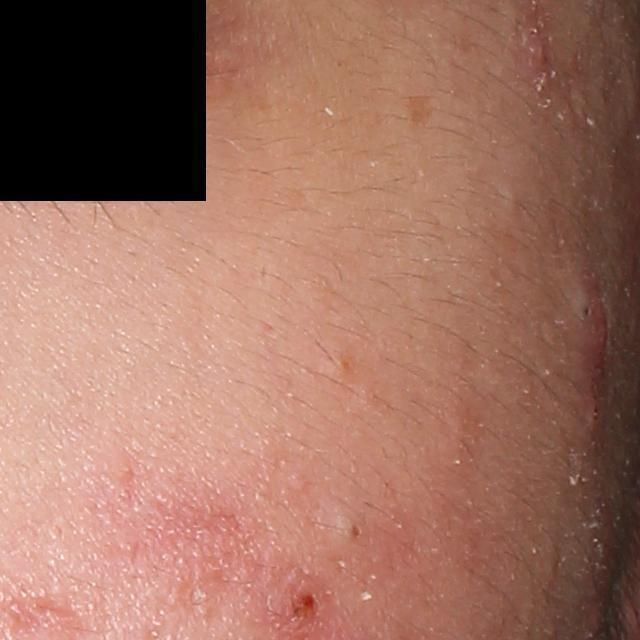comedo: (335, 510, 372, 551)
melasma: (408, 89, 441, 133)
papule: (563, 270, 615, 363), (269, 575, 330, 635)
